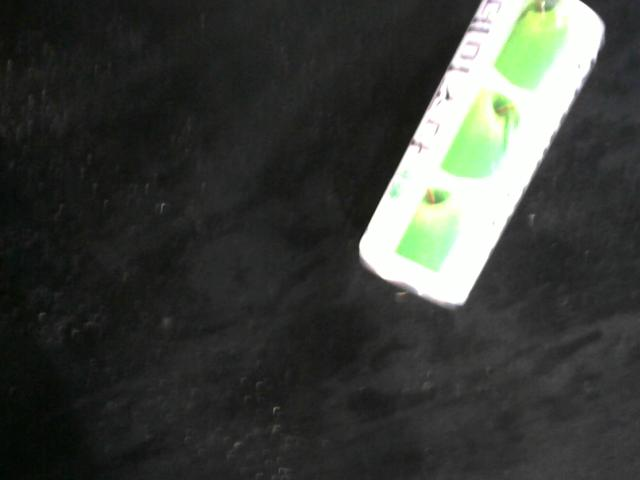can: (356, 0, 611, 312)
